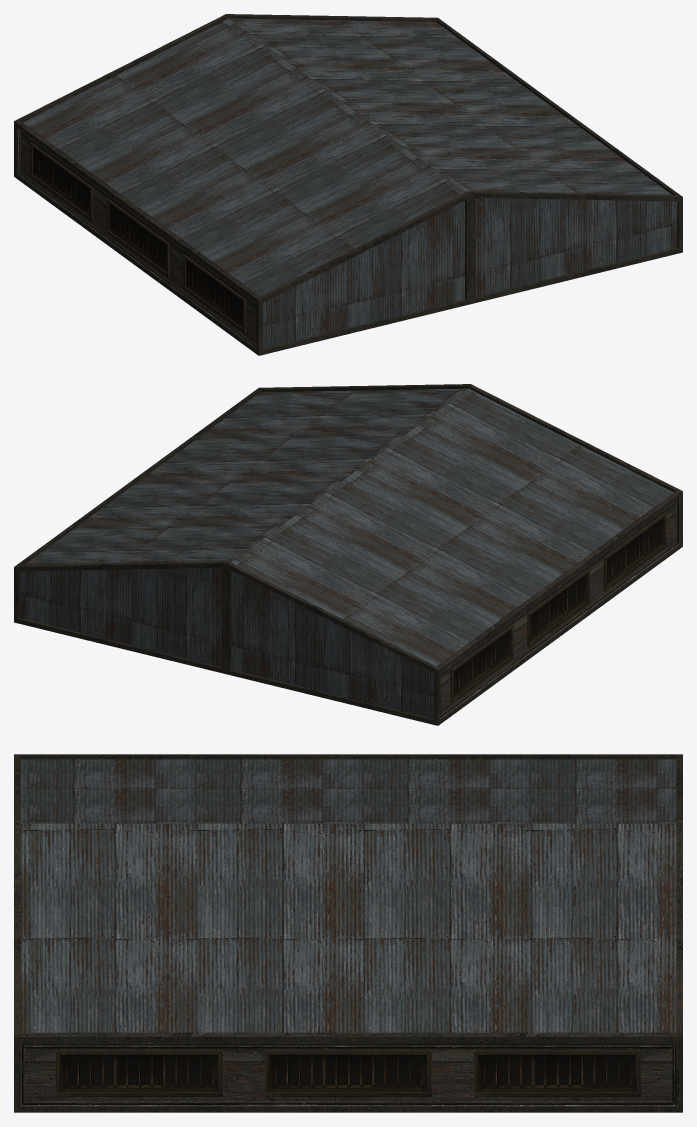
Rendered from roof_mh_4_a_2.glb.
The picture shows the model from 3 angles, top to bottom: view 1: azimuth 30°, elevation 25°; view 2: azimuth 150°, elevation 25°; view 3: azimuth 270°, elevation 25°; orthographic projection. The views are drawn at different scales.
Visible parts, largest first — view 1: roof_mh_4_a_2; view 2: roof_mh_4_a_2; view 3: roof_mh_4_a_2.
Part boxes in pixels (left/top/right/bottom): roof_mh_4_a_2: left=14, top=14, right=682, bottom=355; roof_mh_4_a_2: left=14, top=384, right=682, bottom=725; roof_mh_4_a_2: left=14, top=754, right=682, bottom=1112.
Bounding box in the file's own units: 8 × 2 × 8.
Materials: 6 (6 with a texture image).
